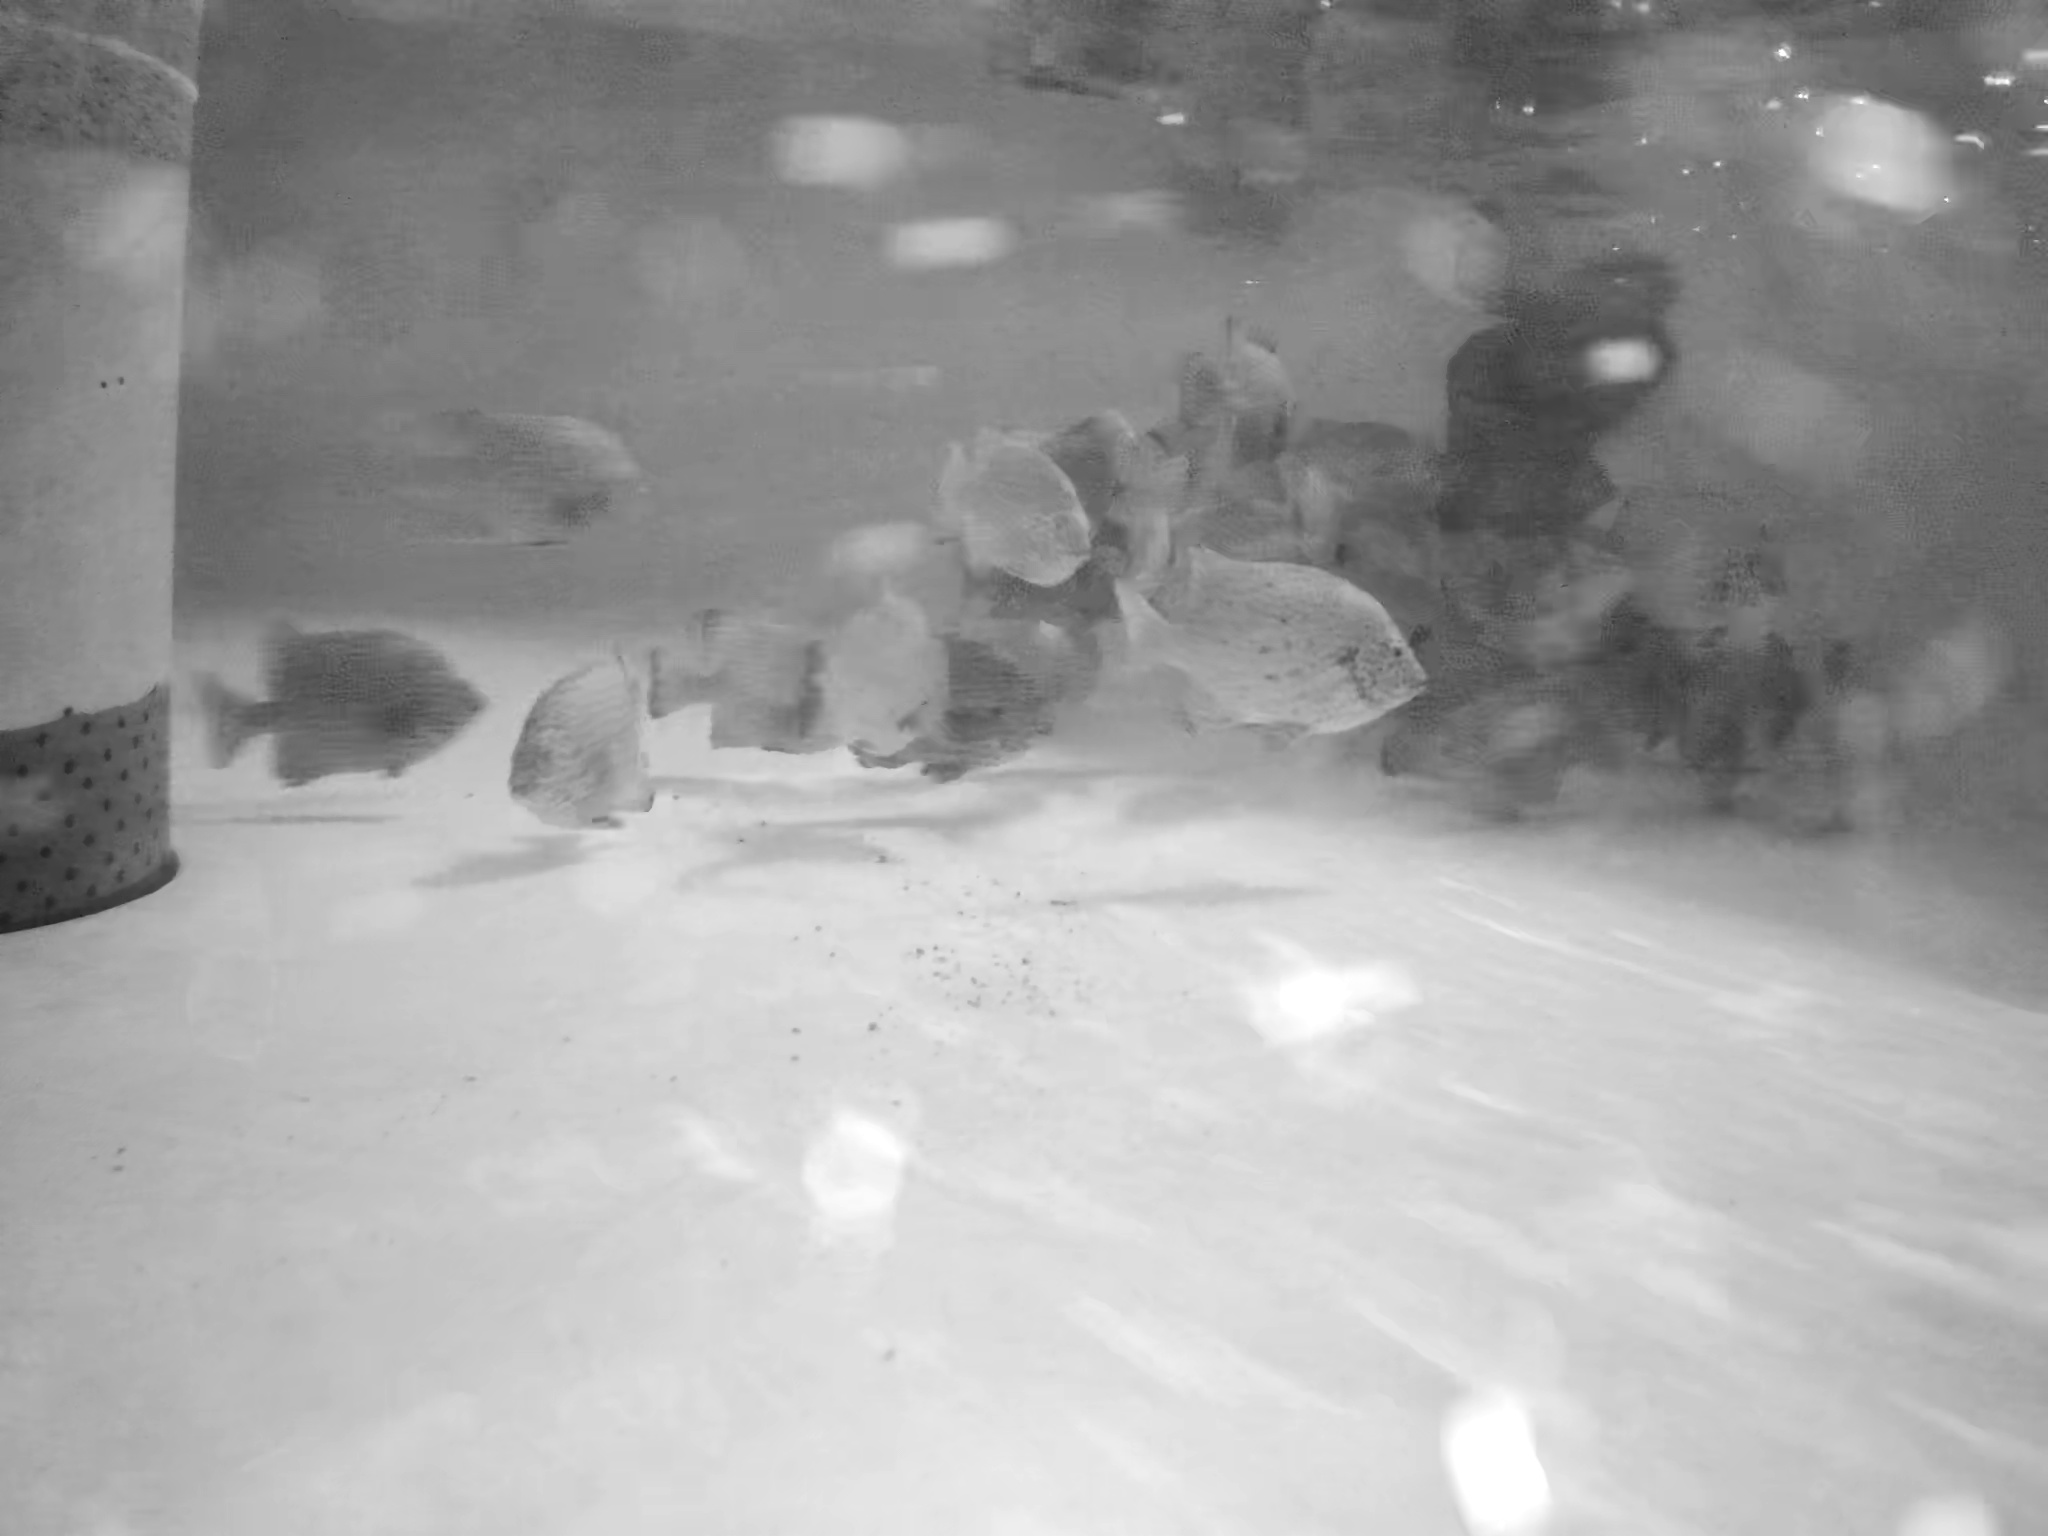fish: (1143, 545, 1459, 763), (1414, 653, 1827, 791), (202, 615, 500, 800), (398, 365, 655, 560), (1422, 510, 1664, 653), (634, 591, 822, 758), (1650, 481, 1848, 637), (780, 581, 950, 763), (529, 621, 648, 865), (942, 421, 1084, 620), (1209, 331, 1330, 553), (1039, 415, 1198, 549), (895, 657, 1050, 763), (976, 592, 1108, 700)
